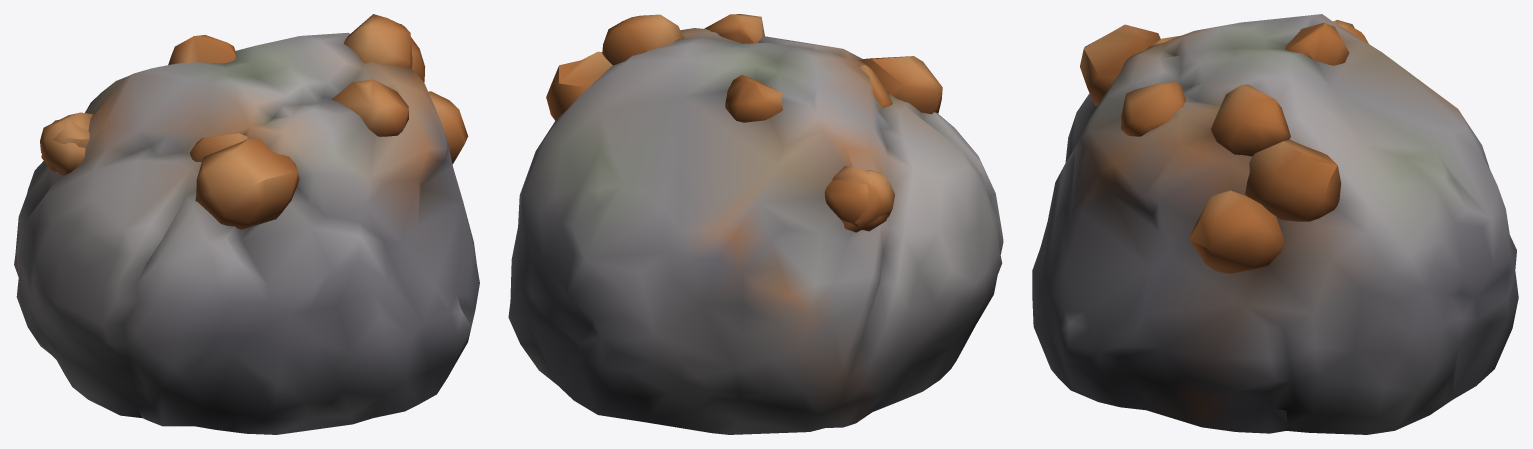
Rendered from node-copperVein-v3.glb.
3 views of the same model, side by side, from view 1: azimuth 30°, elevation 25°; view 2: azimuth 150°, elevation 25°; view 3: azimuth 270°, elevation 25° (orthographic). The views are drawn at different scales.
Parts seen in each view (by area): view 1: 0_vein; view 2: 0_vein; view 3: 0_vein.
Part boxes in pixels (x1,y1,x2,y2): 0_vein: (14,14,479,434); 0_vein: (508,14,1003,434); 0_vein: (1032,14,1518,434).
Size of the model in its own units: 1.98 by 1.38 by 1.94.
